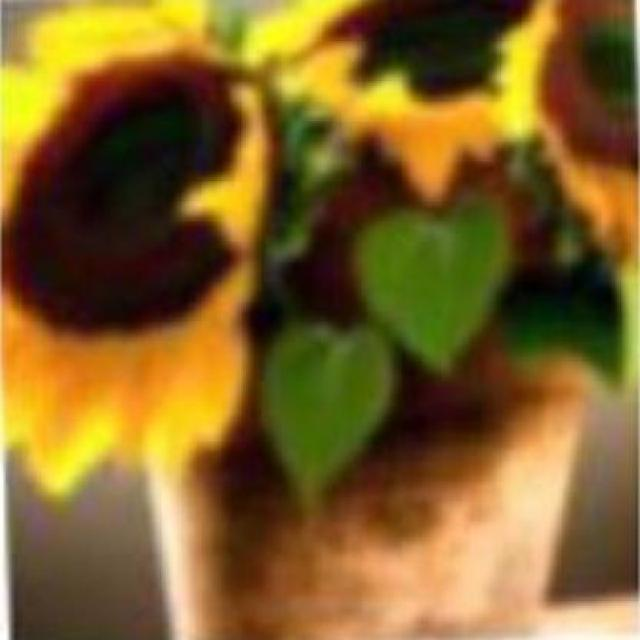sunflower: (0, 0, 277, 488)
